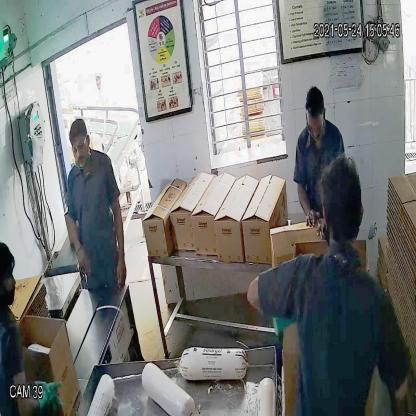goggles: (70, 136, 89, 155)
